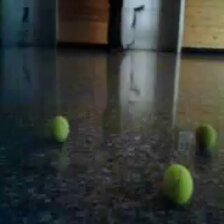tennis: (163, 164, 194, 206), (50, 113, 70, 144), (195, 125, 217, 149)
